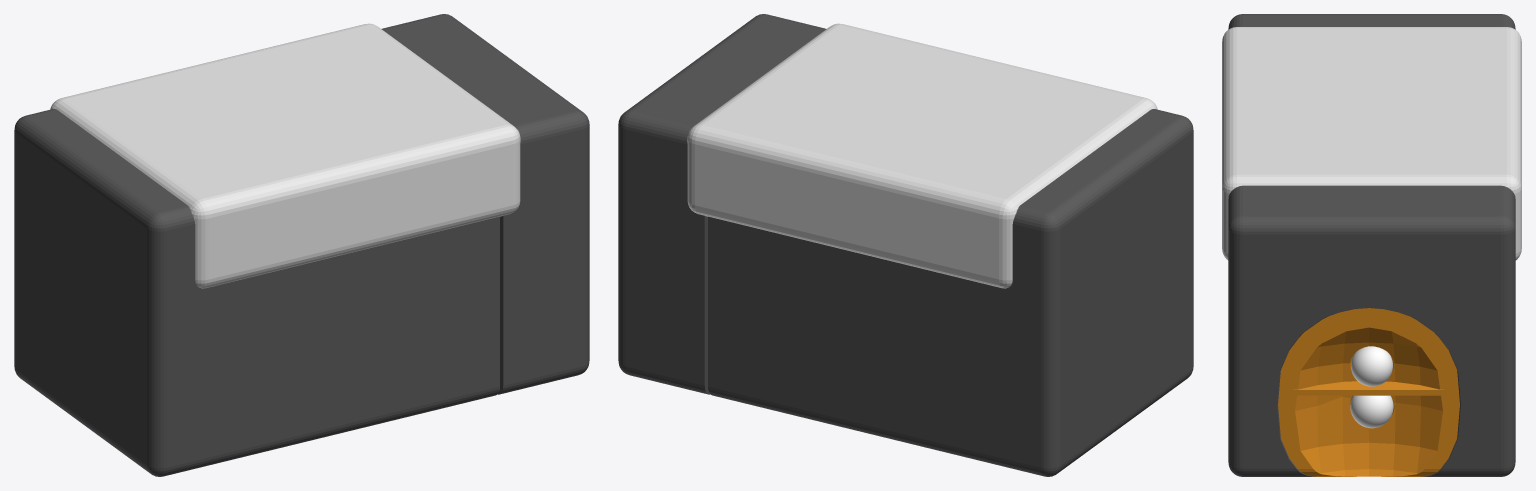
File: ligh_sensor.fbx
3 renders of one model, left to right at view 1: azimuth 30°, elevation 25°; view 2: azimuth 150°, elevation 25°; view 3: azimuth 270°, elevation 25°, orthographic.
Visible parts, largest first — view 1: Cube, Cube.001; view 2: Cube, Cube.001; view 3: Cube, Cube.001, Sphere.001, Sphere.002, Sphere.003.
Part boxes in pixels (x1,y1,x2,y2): Cube: (14,14,589,476); Cube.001: (50,23,520,288); Cube: (618,14,1193,476); Cube.001: (687,23,1157,288); Cube: (1228,14,1515,476); Cube.001: (1222,27,1521,260); Sphere.001: (1278,308,1459,476); Sphere.002: (1351,346,1392,386); Sphere.003: (1350,395,1393,428).
Size of the model in its own units: 354 by 232 by 209.
